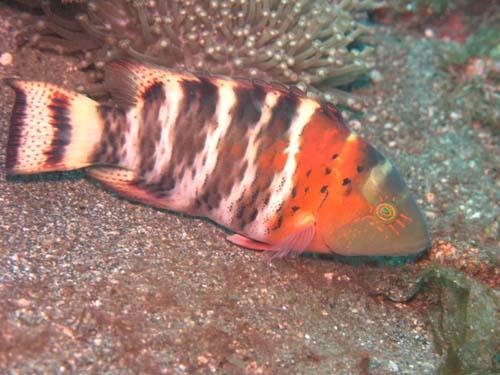fish: (3, 61, 431, 259)
